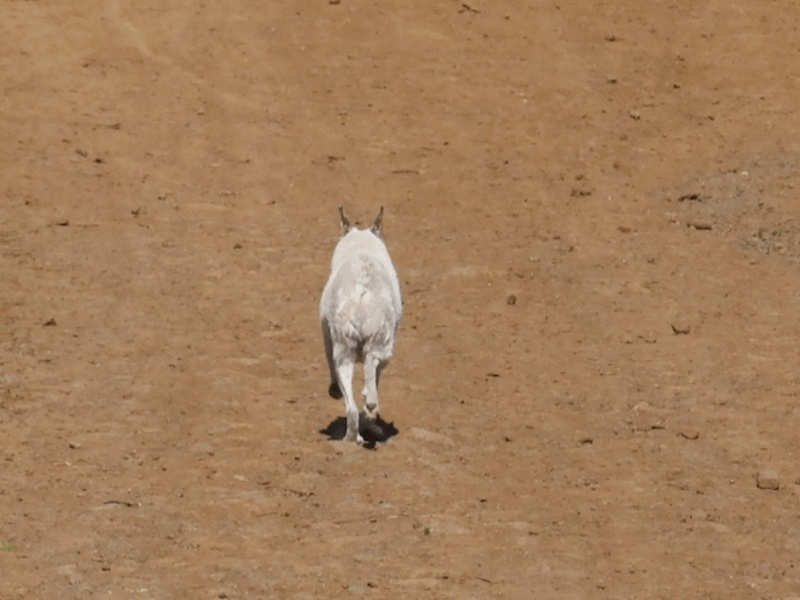dog: (308, 202, 406, 451)
